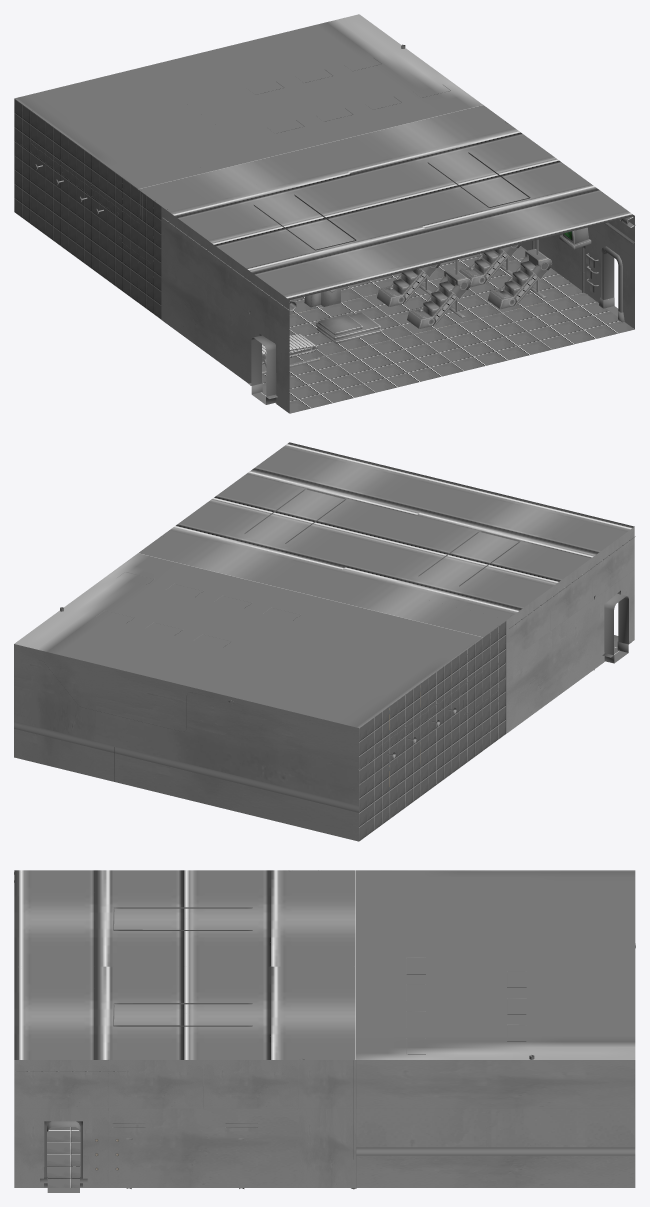
File: MSH_endurance_room_L3_R2_optimized.fbx
3 renders of one model, top to bottom at view 1: azimuth 30°, elevation 25°; view 2: azimuth 150°, elevation 25°; view 3: azimuth 270°, elevation 25°, orthographic. The views are drawn at different scales.
Visible parts, largest first — view 1: lightmap0, lightmap1, lightmap-1, stair_ani04 1; view 2: lightmap0, lightmap-1, lightmap1; view 3: lightmap0, lightmap1.
Part boxes in pixels (x1,y1,x2,y2): lightmap0: (14, 14, 635, 413); lightmap1: (35, 58, 598, 385); lightmap-1: (251, 251, 618, 404); stair_ani04 1: (423, 275, 455, 316); lightmap0: (14, 442, 635, 841); lightmap-1: (604, 593, 628, 663); lightmap1: (96, 488, 595, 781); lightmap0: (14, 870, 635, 1189); lightmap1: (95, 907, 526, 1170).
Bounding box in the file's own units: 20.61 × 6.38 × 27.14.
8 materials, 8 textured.
